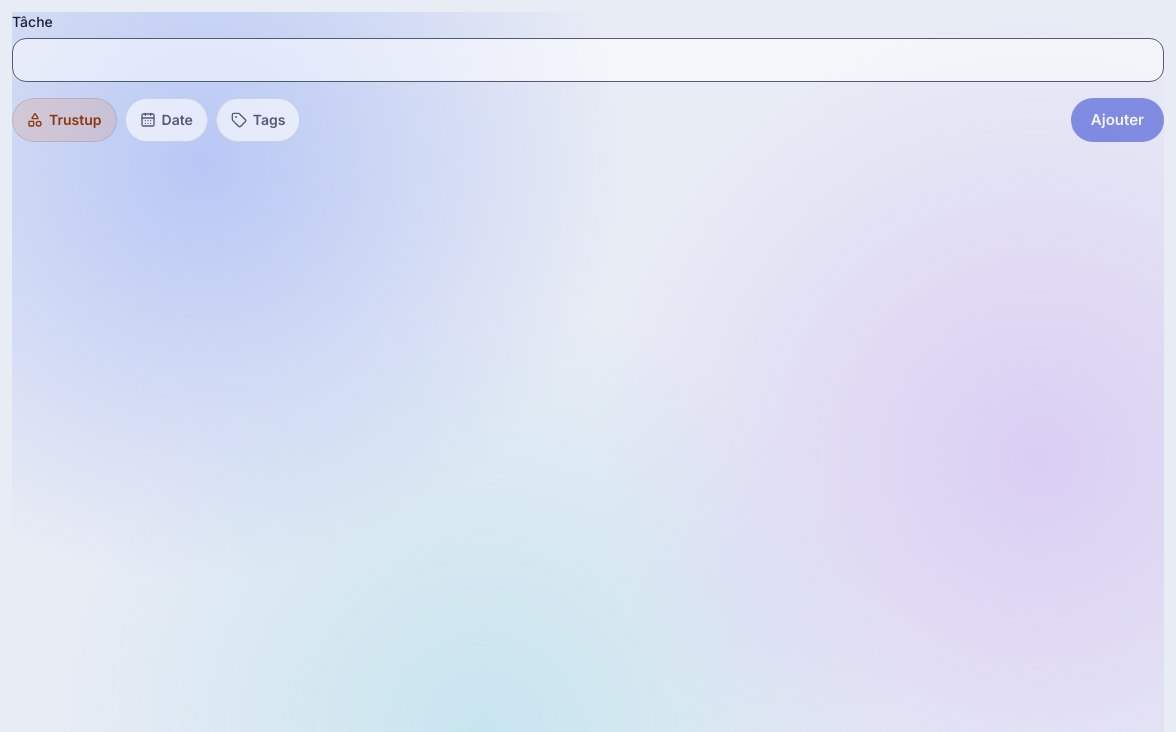
Test: ajout rapide : formulaire tâche › bouton désactivé pendant l'appel, un seul envoi
This screenshot has width=1176, height=732.
Later steps or results of the test are not shown.
Type "Relancer le devis" into the field labelled "Tâche" at (588, 60), box [12, 38, 1164, 82]
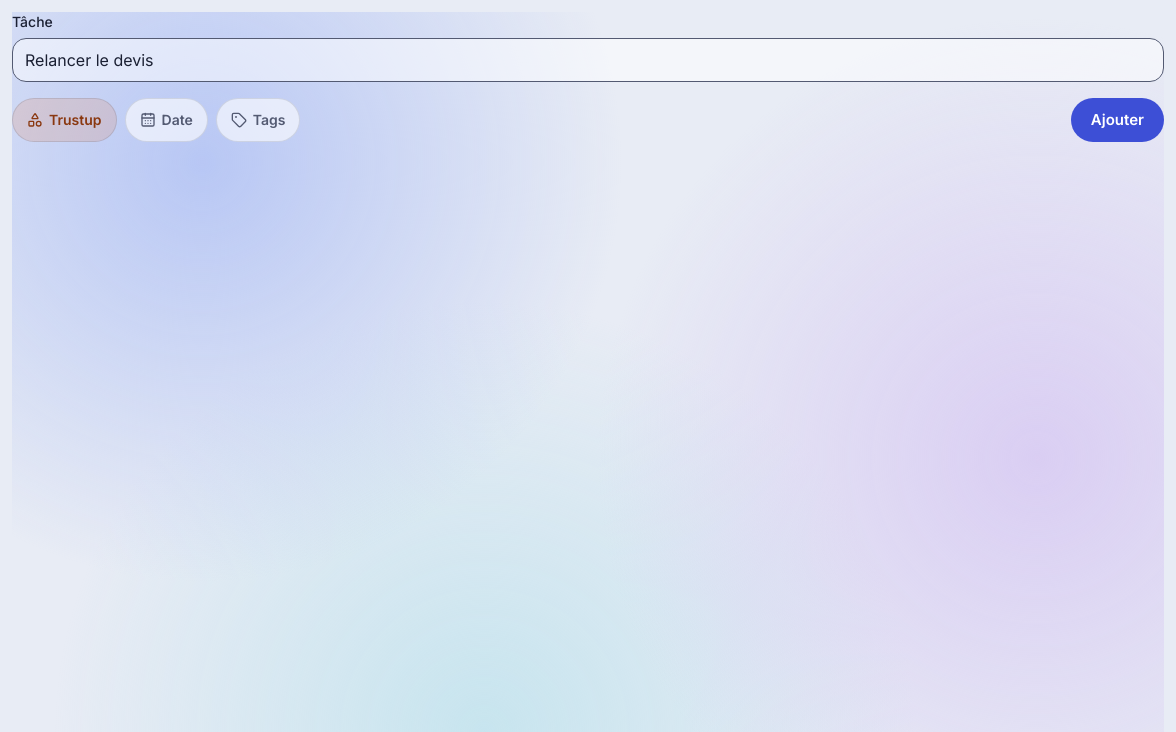
Click the button "Ajouter" at (1117, 120), box [1071, 98, 1164, 142]
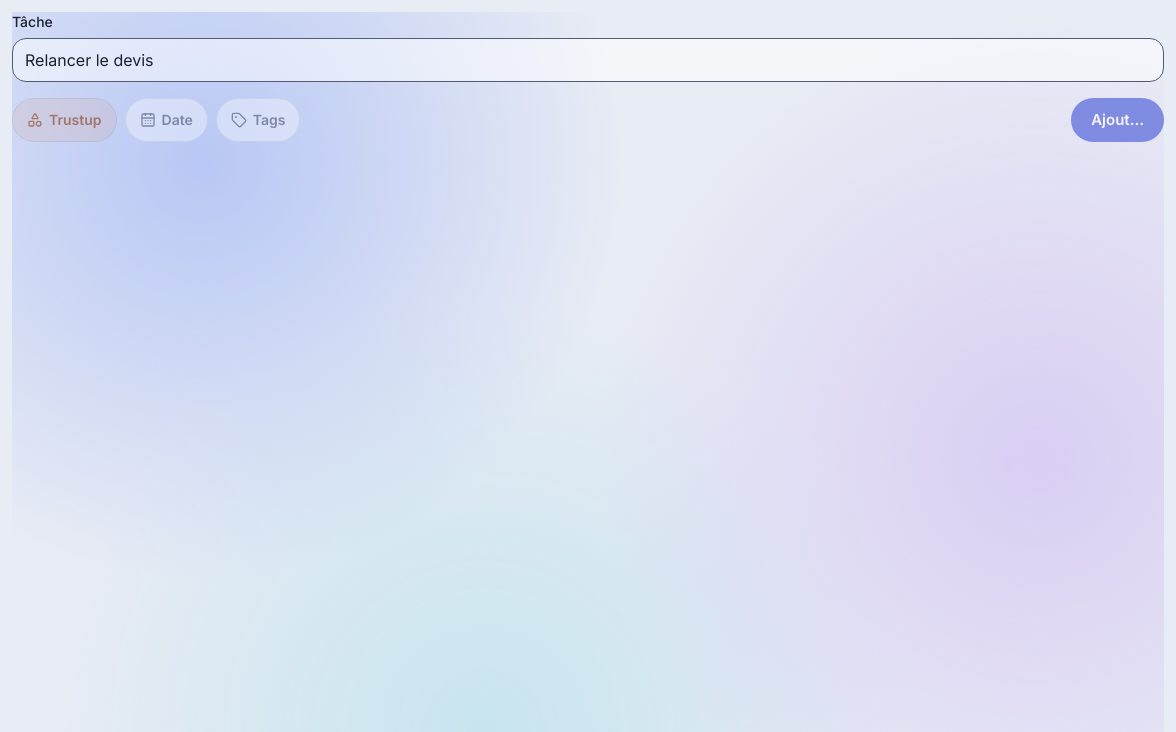
Now the button "Ajout…" is disabled, box [1071, 98, 1164, 142]
Submit the form "Tâche", box [12, 12, 1164, 182]
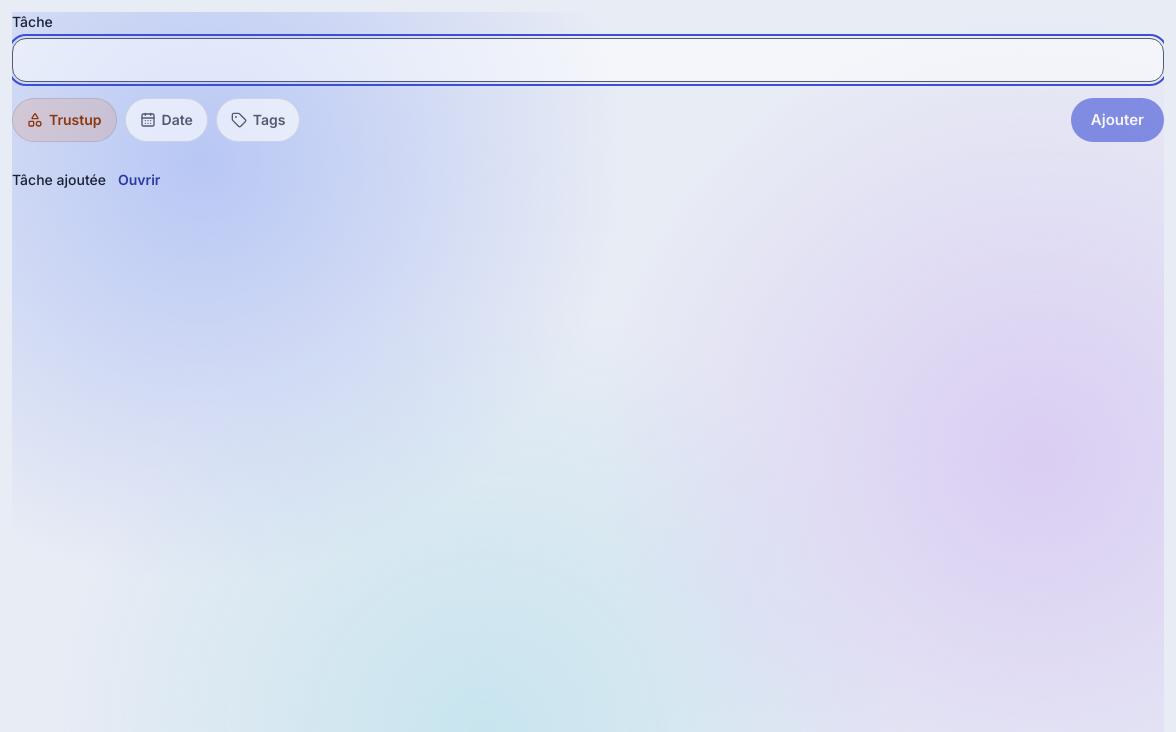
Now the field labelled "Tâche" is empty, box [12, 38, 1164, 82]
